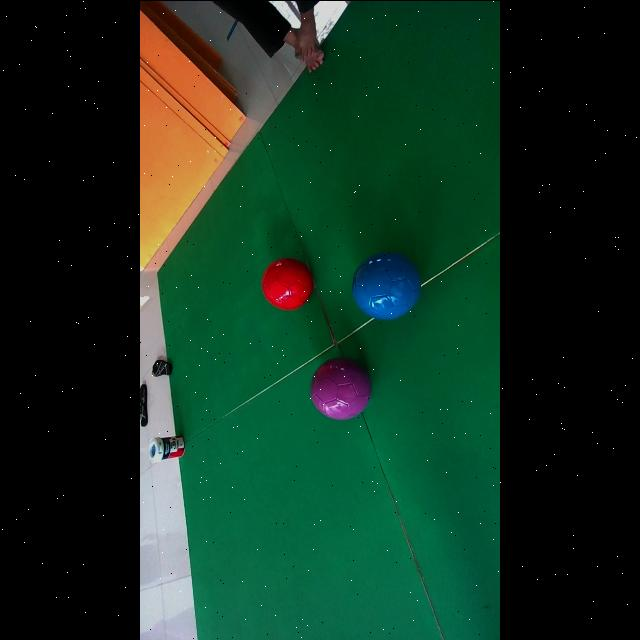B: (353, 253, 420, 319)
P: (310, 356, 371, 419)
R: (262, 256, 313, 309)
